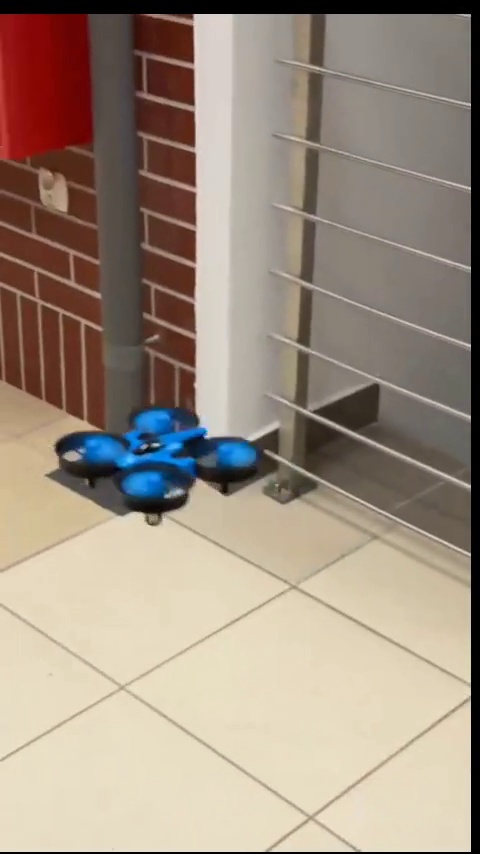drone: (54, 410, 265, 532)
